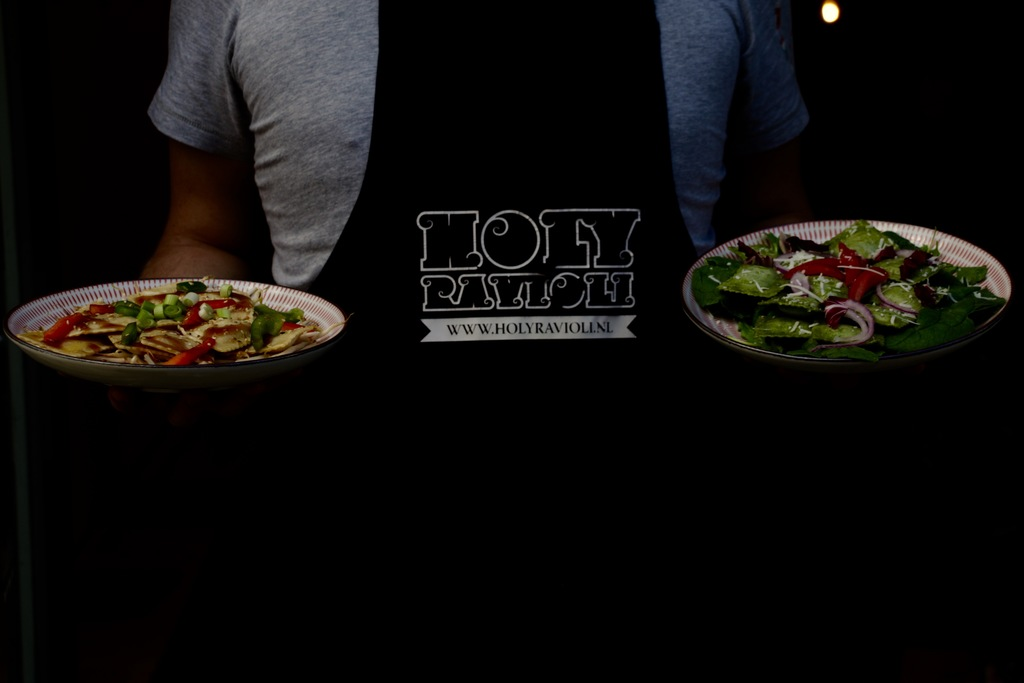salad: (691, 216, 1012, 363), (17, 277, 348, 370)
